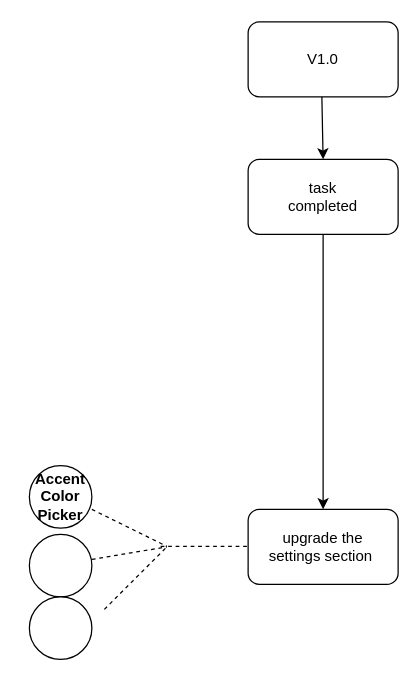
The diagram is 420 pixels wide and 681 high, and some of its shapes have lost their labels. Here are the shapes that lost their labels. From the top down, the centre of each, then its label:
At (60,565): "Task List Density:".
At (60,627): "Show/Hide Completed Tasks".
